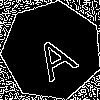A: (27, 26, 80, 83)
